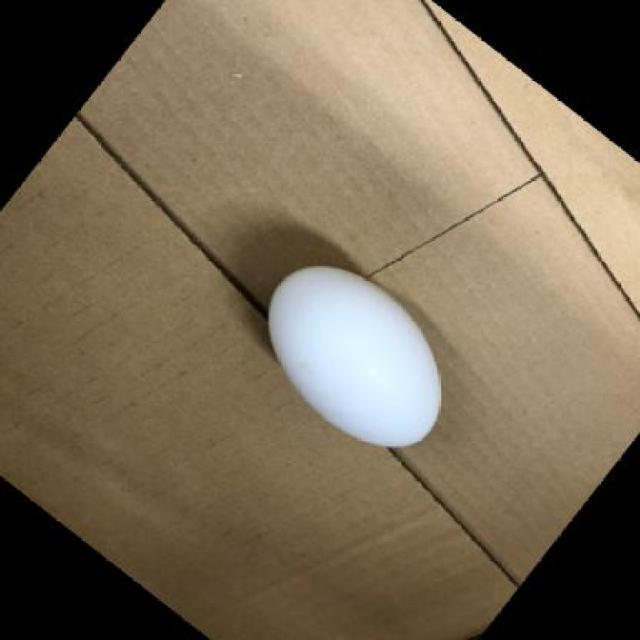egg: (265, 260, 445, 452)
